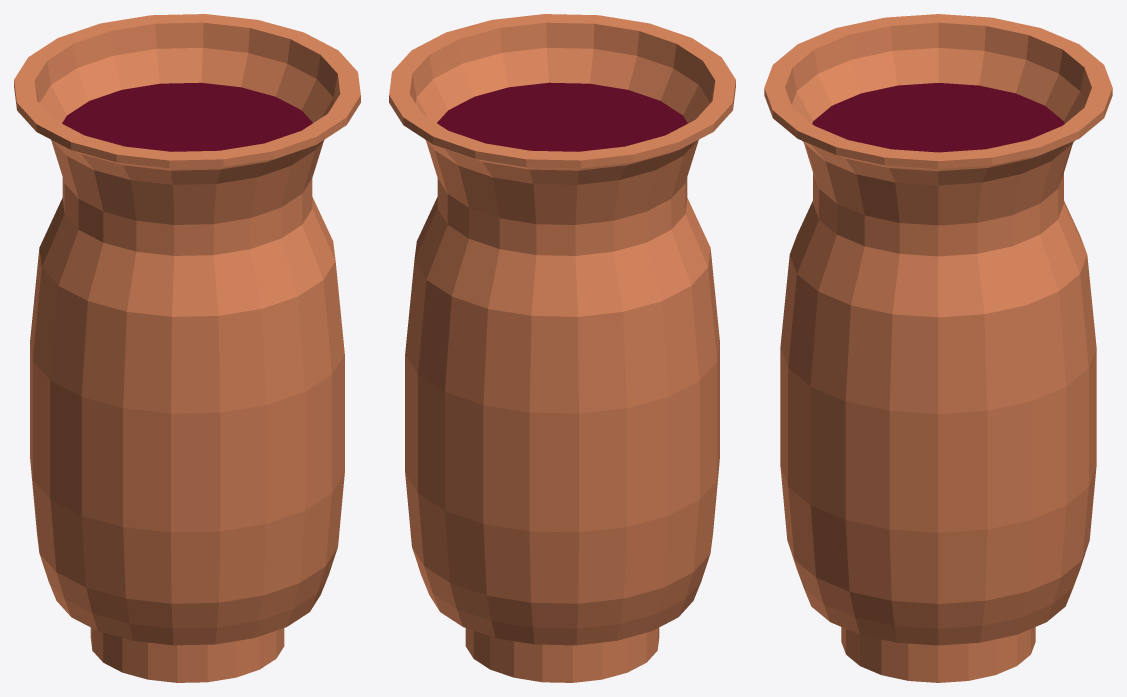
The model's file is vase.fbx.
The picture shows the model from 3 angles, left to right: view 1: azimuth 30°, elevation 25°; view 2: azimuth 150°, elevation 25°; view 3: azimuth 270°, elevation 25°; orthographic projection.
Parts seen in each view (by area): view 1: Cylinder; view 2: Cylinder; view 3: Cylinder.
Part boxes in pixels (left/top/right/bottom): Cylinder: left=14, top=14, right=360, bottom=682; Cylinder: left=389, top=14, right=735, bottom=682; Cylinder: left=764, top=14, right=1112, bottom=682.
Size of the model in its own units: 717 by 1258 by 717.
